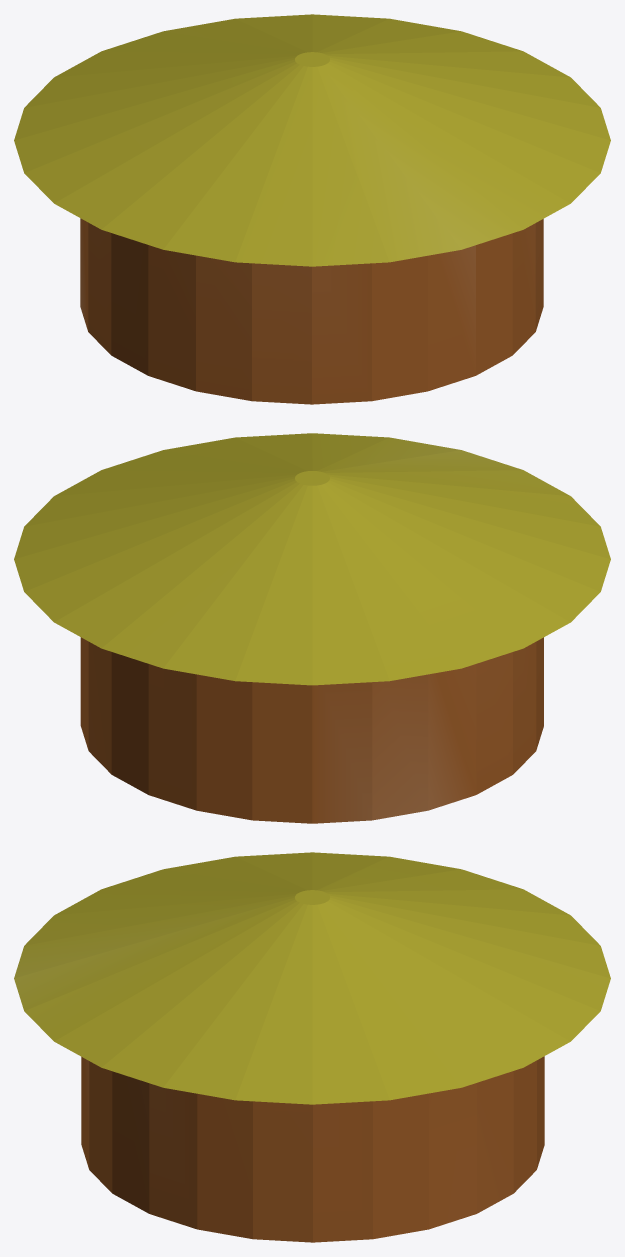
The model's file is Hut.fbx.
3 views of the same model, one above another, from view 1: azimuth 30°, elevation 25°; view 2: azimuth 150°, elevation 25°; view 3: azimuth 270°, elevation 25° (orthographic).
Visible parts, largest first — view 1: Cylinder.001, Cylinder; view 2: Cylinder.001, Cylinder; view 3: Cylinder.001, Cylinder.
Boxes of the visible parts, left/top/right/bottom form: Cylinder.001: left=14, top=14, right=610, bottom=266; Cylinder: left=80, top=218, right=543, bottom=404; Cylinder.001: left=14, top=433, right=610, bottom=685; Cylinder: left=80, top=637, right=543, bottom=823; Cylinder.001: left=14, top=852, right=610, bottom=1104; Cylinder: left=81, top=1056, right=544, bottom=1242.
Size of the model in its own units: 258 by 118 by 258.
